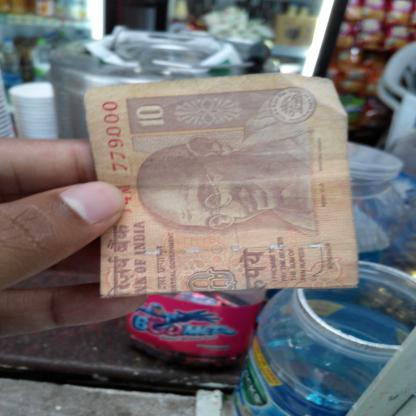Old10Front: (84, 74, 361, 298)
